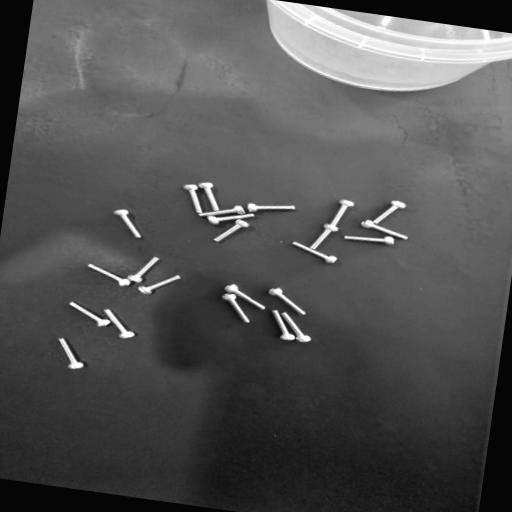Bolt: (225, 285, 265, 310), (69, 302, 110, 326), (88, 264, 131, 286), (361, 220, 408, 240), (269, 288, 305, 314), (292, 242, 336, 263), (282, 312, 311, 342), (105, 310, 135, 338), (222, 293, 249, 323), (214, 219, 249, 242), (138, 275, 180, 294), (58, 339, 84, 369), (128, 258, 159, 283), (114, 210, 141, 238), (373, 201, 405, 224), (310, 224, 338, 249), (272, 311, 295, 340), (330, 200, 354, 226), (198, 183, 219, 211), (199, 206, 245, 217), (184, 185, 202, 213), (208, 214, 254, 224), (344, 236, 394, 245), (247, 204, 295, 212)
